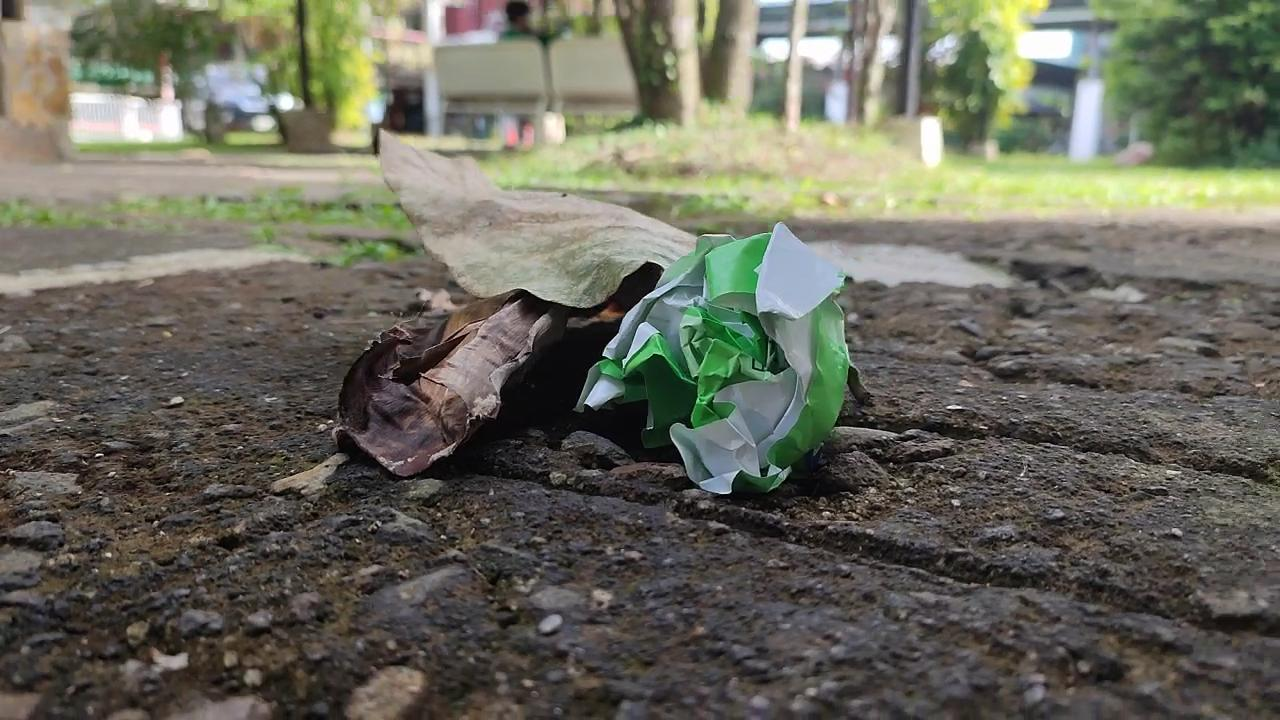Paper: (542, 197, 872, 526)
